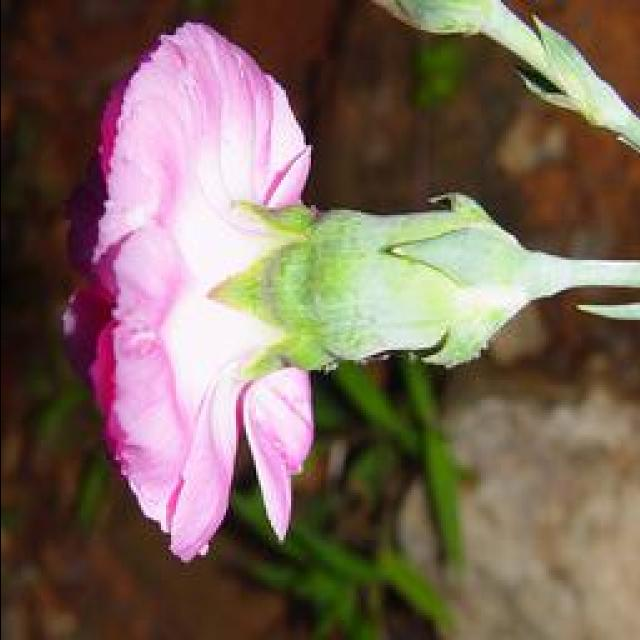carnation: (58, 17, 552, 597)
